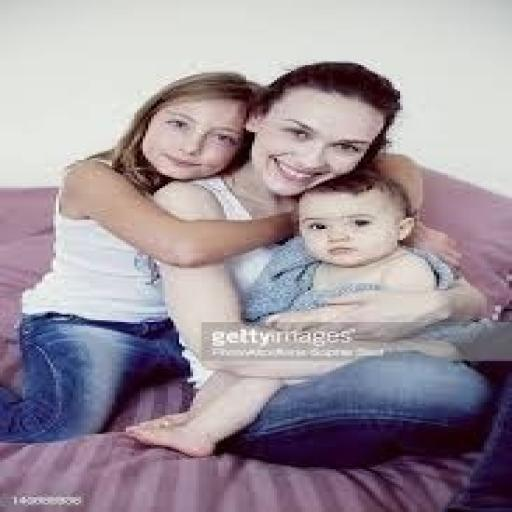hugging: (2, 60, 504, 466)
